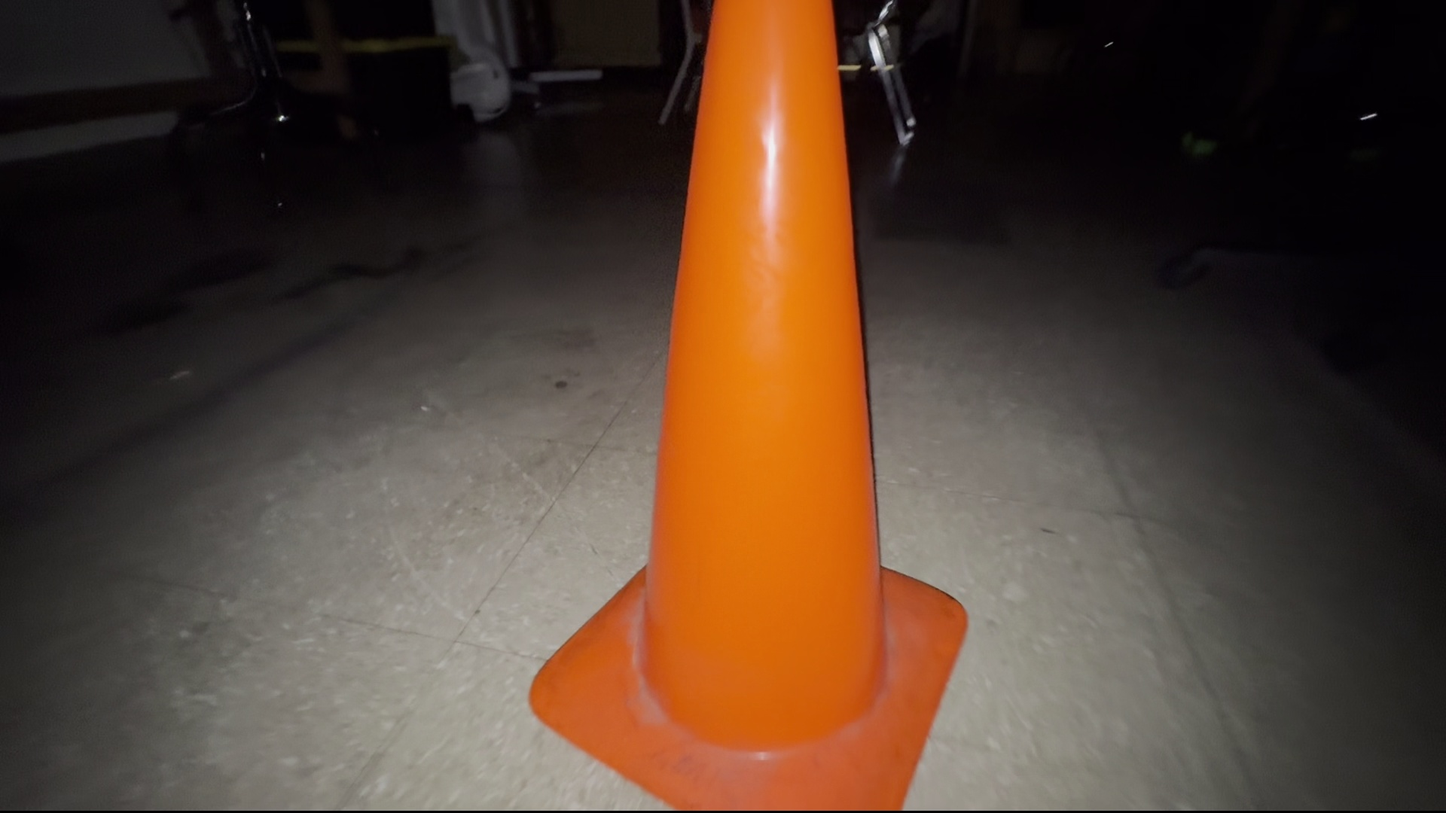traffic_cone: (527, 1, 970, 811)
